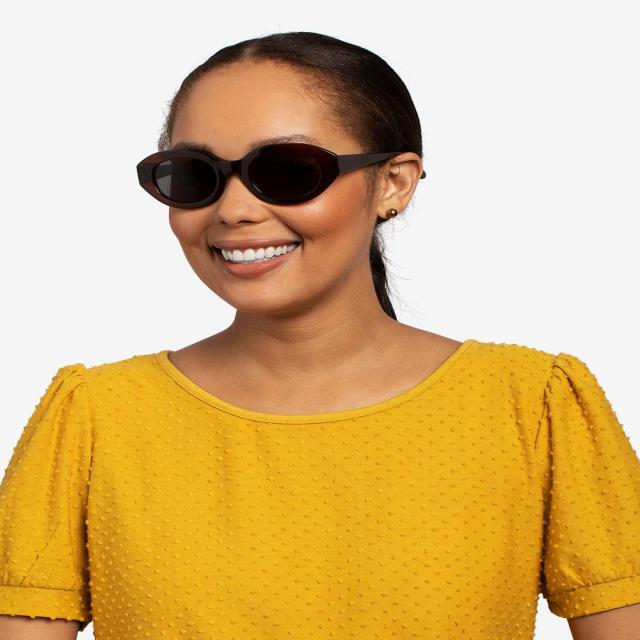2_gafas: (135, 140, 408, 210)
